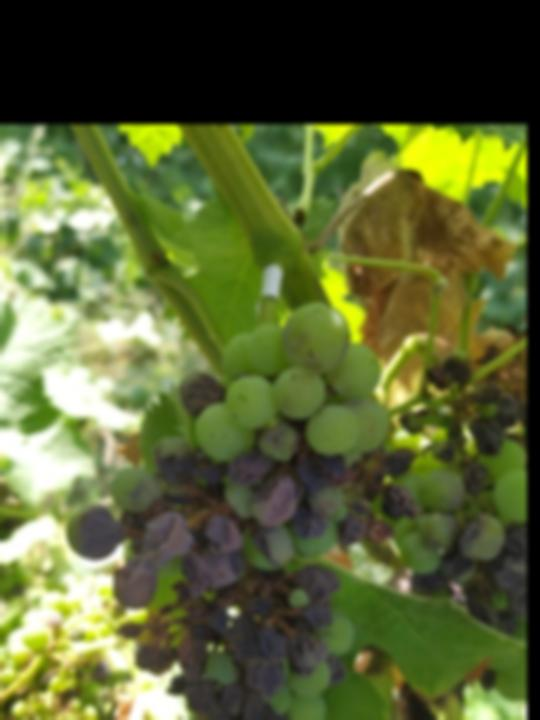grape: (61, 300, 420, 720), (373, 291, 540, 640)
